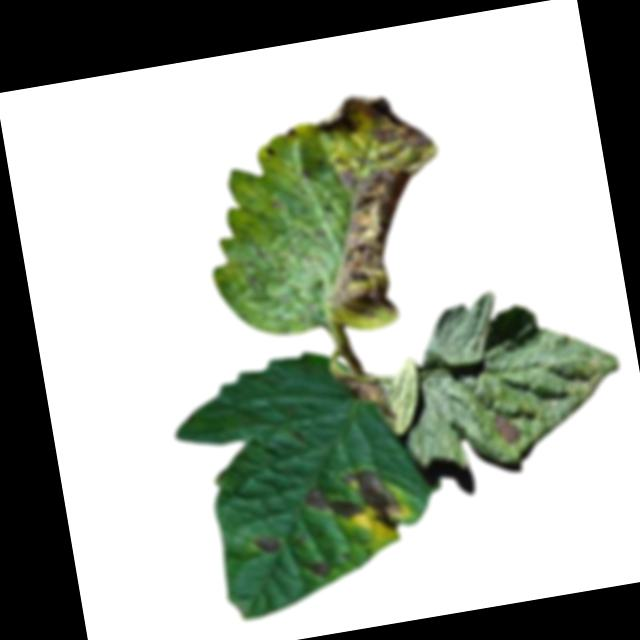Early_blight: (303, 158, 450, 336), (315, 82, 435, 167), (343, 462, 407, 537), (333, 368, 401, 426), (298, 481, 365, 527), (494, 411, 521, 449), (249, 533, 282, 558), (301, 559, 334, 584), (262, 143, 277, 159)
